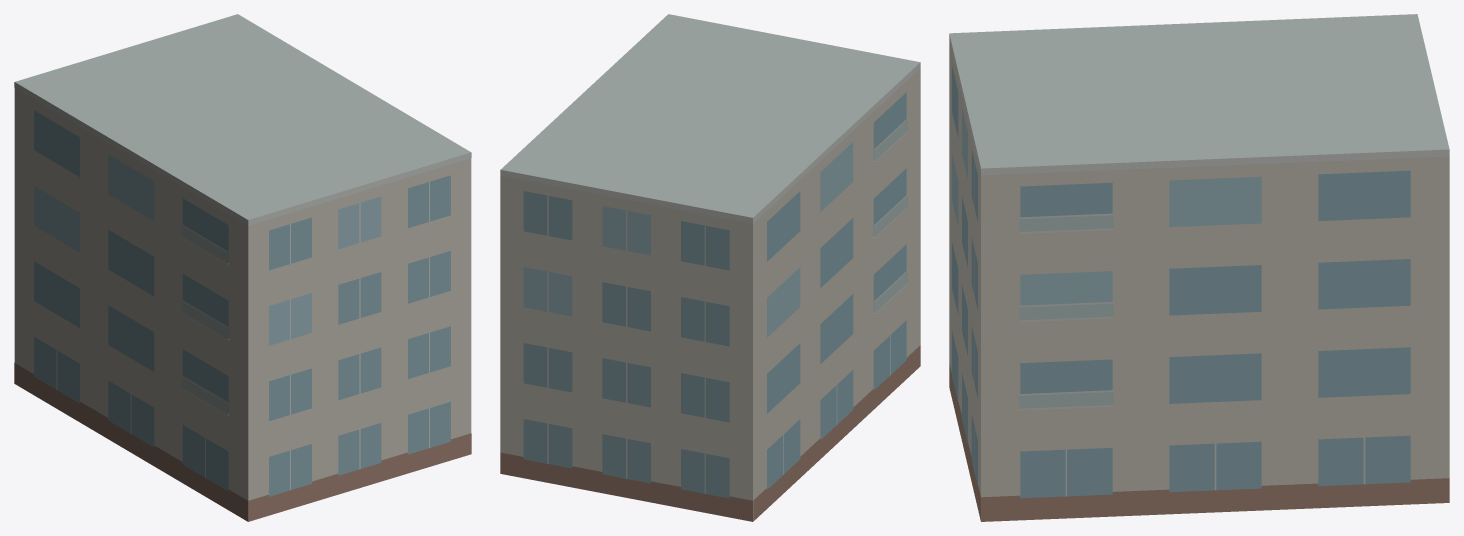
The model's file is survey-upis-32985232.glb.
3 views of the same model, side by side, from view 1: azimuth 30°, elevation 25°; view 2: azimuth 150°, elevation 25°; view 3: azimuth 270°, elevation 25° (orthographic). The views are drawn at different scales.
Parts seen in each view (by area): view 1: survey-upis-32985232.tmp; view 2: survey-upis-32985232.tmp; view 3: survey-upis-32985232.tmp.
Boxes of the visible parts, <box> form: survey-upis-32985232.tmp: <box>14,14,471,521</box>; survey-upis-32985232.tmp: <box>500,14,920,521</box>; survey-upis-32985232.tmp: <box>949,14,1449,521</box>.
Bounding box in the file's own units: 11.92 × 12.7 × 16.31.
